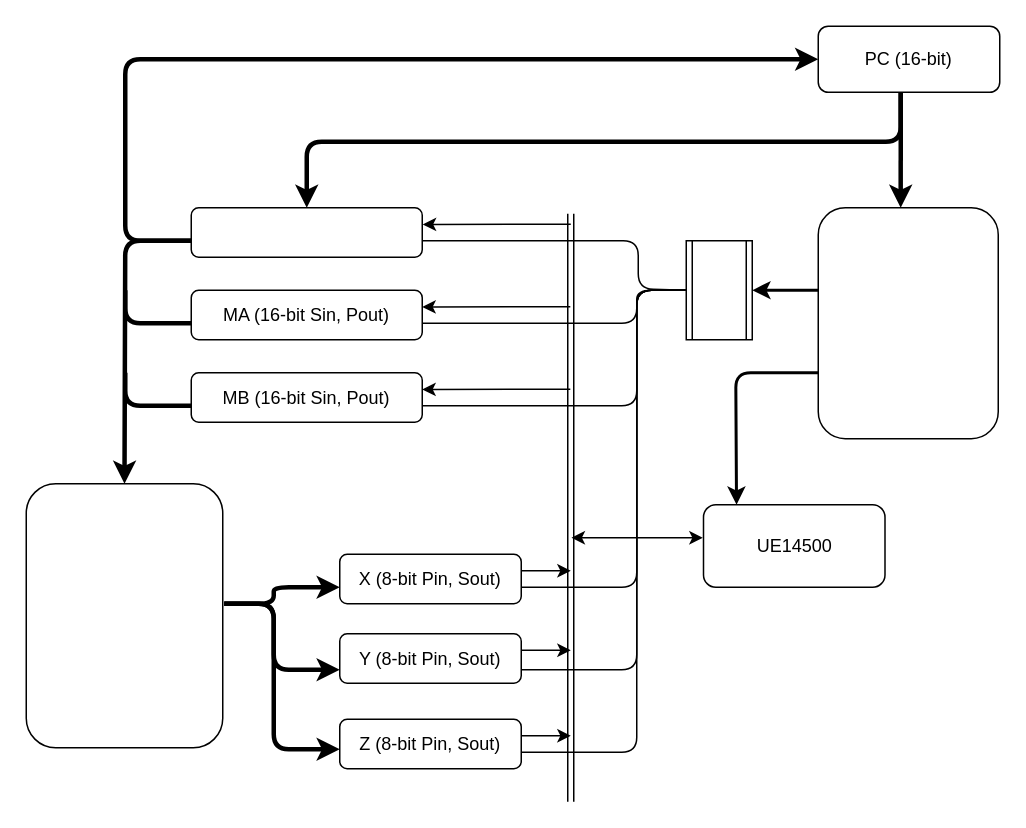
Image size: 1026x828. Some labels were removed from this diagram. The box of each missing label's shape, as (x1, y1, x2, y2) in pixels:
MUX: (685, 239, 752, 340)
RA (16-bit Sin, Pout): (190, 206, 422, 257)
RAM 64k x 8: (25, 482, 223, 748)
ROM 64k x 8: (817, 206, 998, 439)
